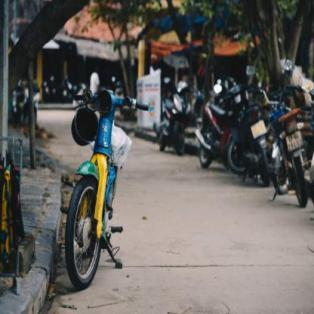Motocicleta: (61, 77, 133, 293)
